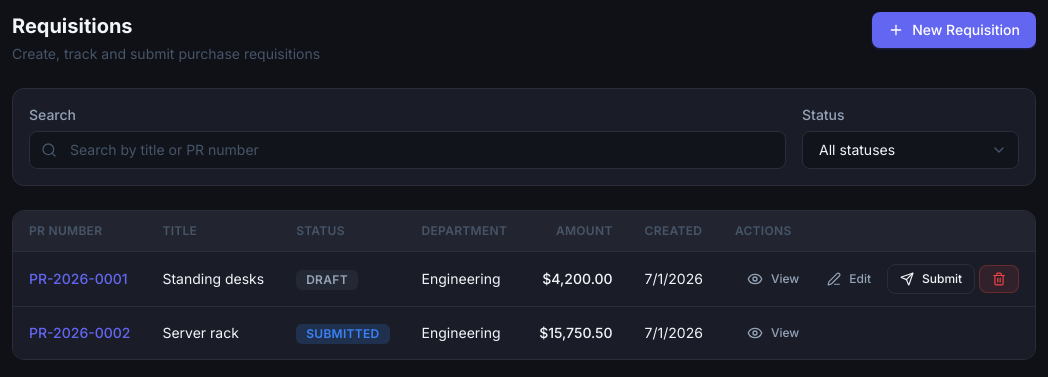
Test: RequisitionListPage › searches on title and PR number
Expected: the text "PR-2026-0001" is shown, [29, 270, 128, 287]
Type "rack" into the field labelled "Search" at (408, 150), box [29, 131, 786, 169]
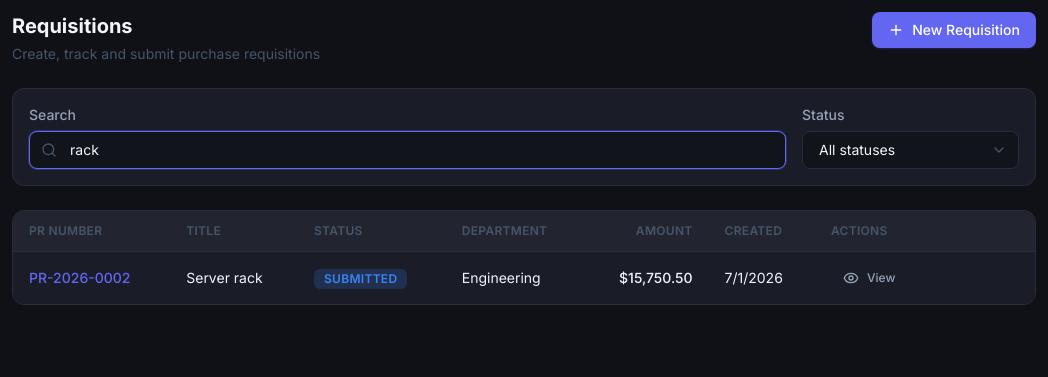
Expected: the text "Server rack" is shown, [170, 252, 298, 304]
Result: the text "PR-2026-0001" is gone
